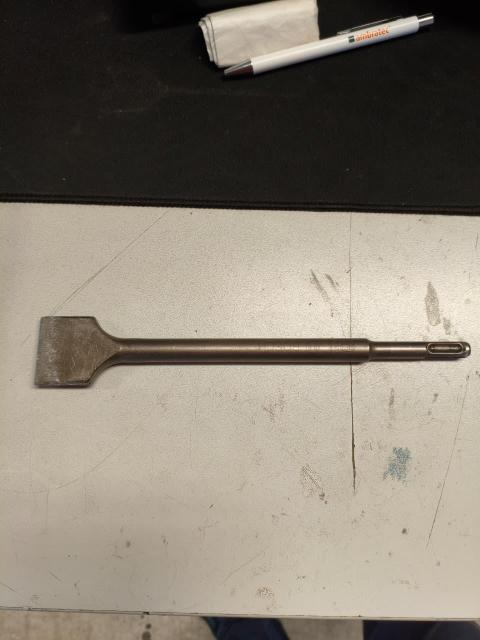Kagit: (182, 0, 325, 48)
Metal: (40, 310, 468, 378)
Plastik: (222, 28, 430, 87)
